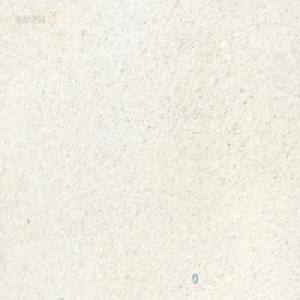Washer: (192, 271, 198, 283)
